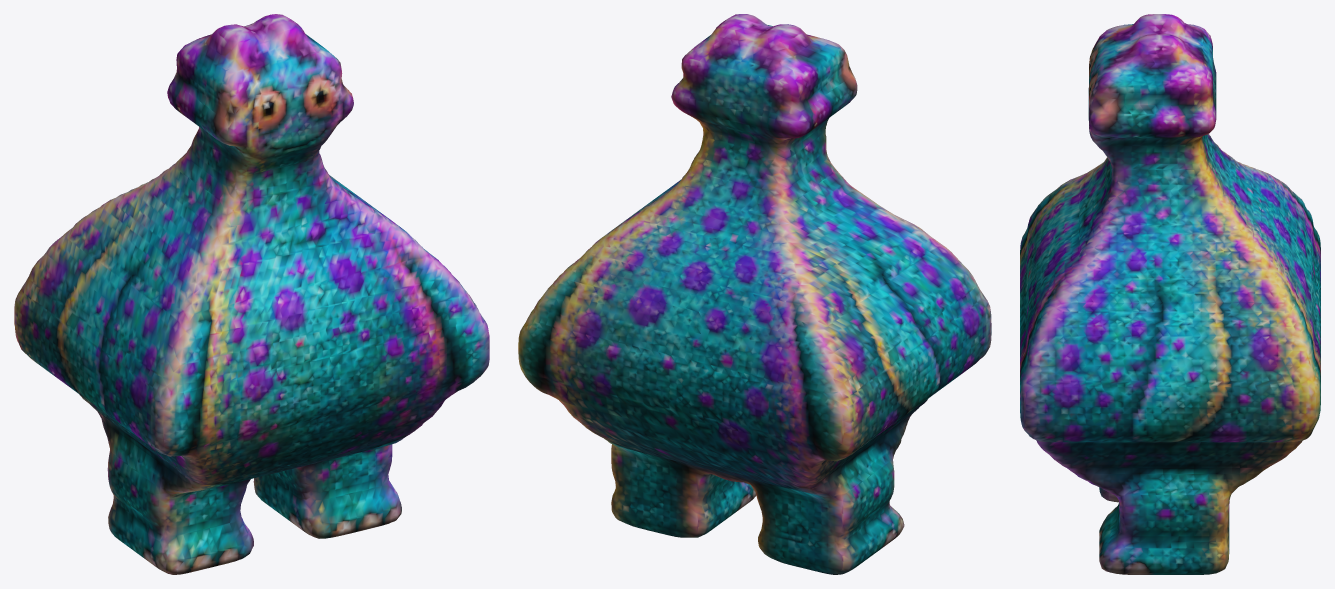
File: organisch-proefmodel.glb
The picture shows the model from 3 angles, left to right: view 1: azimuth 30°, elevation 25°; view 2: azimuth 150°, elevation 25°; view 3: azimuth 270°, elevation 25°; orthographic projection. The views are drawn at different scales.
Visible parts, largest first — view 1: 04-bolle-stippelmonster-voorkant-zijkant-achterkant; view 2: 04-bolle-stippelmonster-voorkant-zijkant-achterkant; view 3: 04-bolle-stippelmonster-voorkant-zijkant-achterkant.
Part boxes in pixels (x1,y1,x2,y2): 04-bolle-stippelmonster-voorkant-zijkant-achterkant: (14, 14, 489, 574); 04-bolle-stippelmonster-voorkant-zijkant-achterkant: (518, 14, 991, 574); 04-bolle-stippelmonster-voorkant-zijkant-achterkant: (1020, 14, 1320, 574).
Size of the model in its own units: 1.61 by 2.36 by 1.29.
